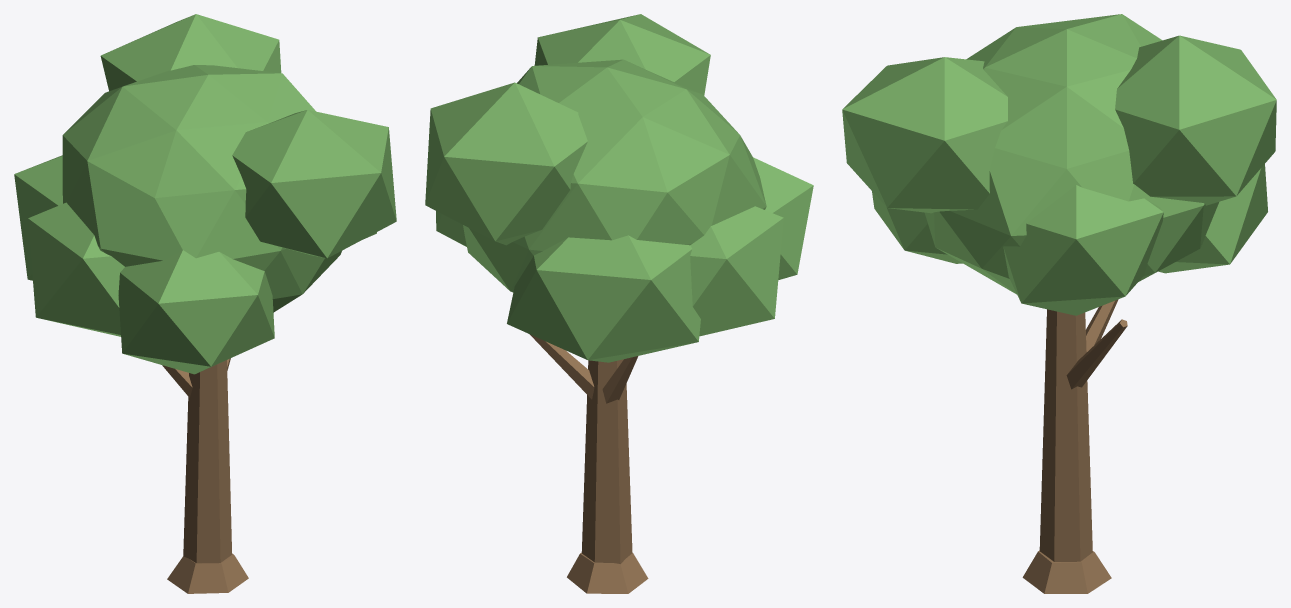
File: tree_oak_b.glb
3 views of the same model, side by side, from view 1: azimuth 30°, elevation 25°; view 2: azimuth 150°, elevation 25°; view 3: azimuth 270°, elevation 25° (orthographic). The views are drawn at different scales.
Parts seen in each view (by area): view 1: tree_oak_b; view 2: tree_oak_b; view 3: tree_oak_b.
Part boxes in pixels (x1,y1,x2,y2): tree_oak_b: [14, 14, 396, 593]; tree_oak_b: [425, 14, 813, 593]; tree_oak_b: [842, 14, 1276, 593].
Bounding box in the file's own units: 3.65 × 5.4 × 3.76.
